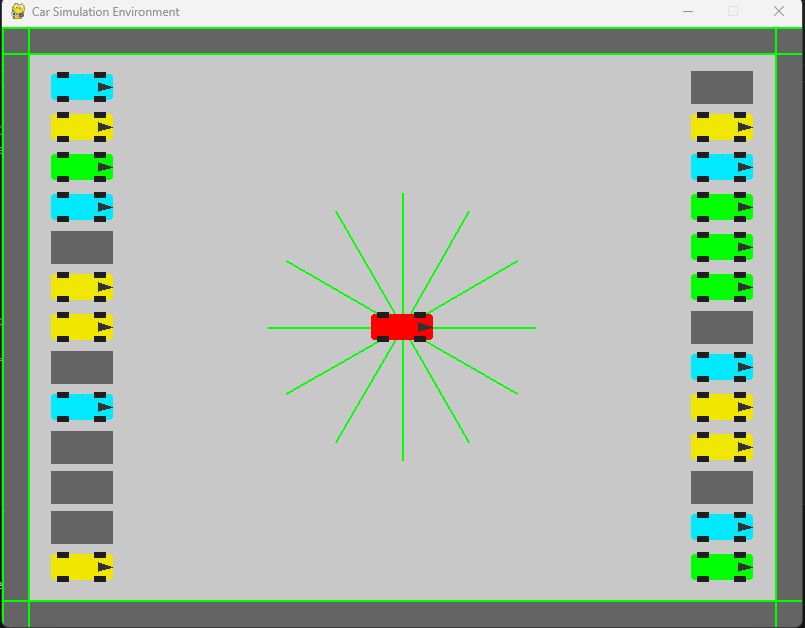ControlledCar: (362, 302, 441, 346)
ParkedCar: (688, 385, 755, 426), (47, 387, 116, 426), (50, 265, 112, 308), (45, 547, 117, 584), (48, 151, 119, 188), (688, 189, 757, 226), (687, 348, 753, 385), (689, 548, 755, 585), (691, 506, 753, 545), (50, 69, 116, 105), (49, 110, 115, 146), (687, 429, 756, 463), (688, 228, 753, 264), (48, 193, 114, 226), (686, 110, 753, 142), (690, 150, 754, 183), (688, 271, 755, 302), (51, 312, 114, 344)
ParkingSpot: (685, 305, 759, 347), (46, 345, 119, 385), (684, 66, 757, 105), (46, 467, 119, 505), (48, 428, 119, 466), (49, 230, 122, 266), (686, 467, 755, 505), (46, 512, 123, 543)
